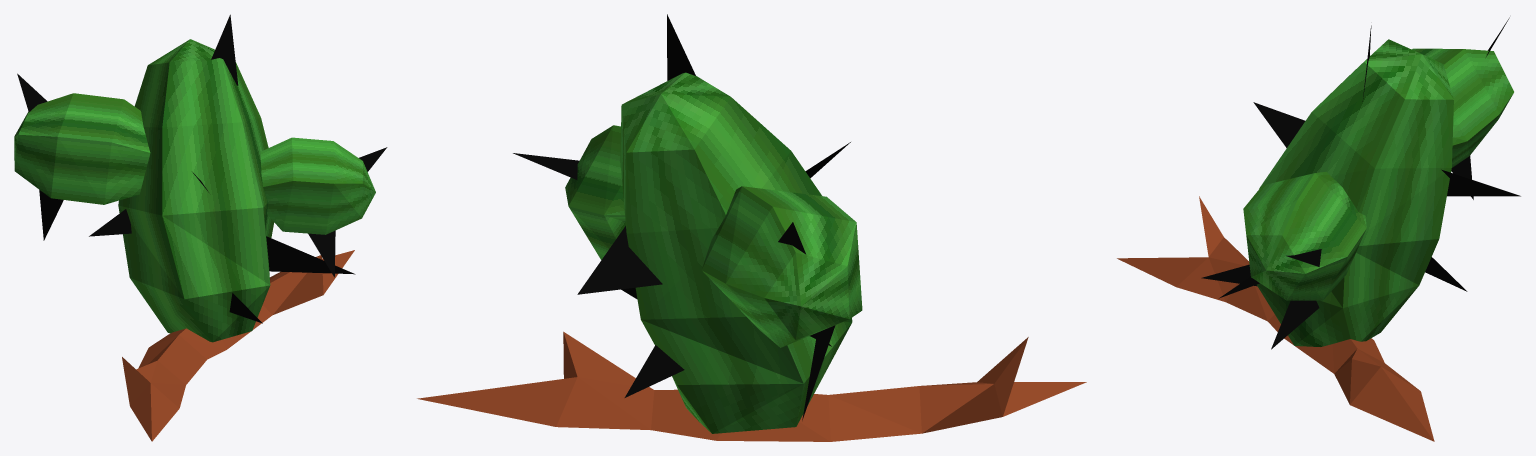
The model's file is Stalking Cactus.obj.
The picture shows the model from 3 angles, left to right: view 1: azimuth 30°, elevation 25°; view 2: azimuth 150°, elevation 25°; view 3: azimuth 270°, elevation 25°; orthographic projection. The views are drawn at different scales.
Visible parts, largest first — view 1: ShapeIndexedFaceS.048; view 2: ShapeIndexedFaceS.048; view 3: ShapeIndexedFaceS.048.
Boxes of the visible parts, x1,y1,x2,y2 form: ShapeIndexedFaceS.048: (14,14,387,441); ShapeIndexedFaceS.048: (417,14,1086,441); ShapeIndexedFaceS.048: (1117,17,1520,441).
Size of the model in its own units: 4.89 by 4.09 by 4.39.
